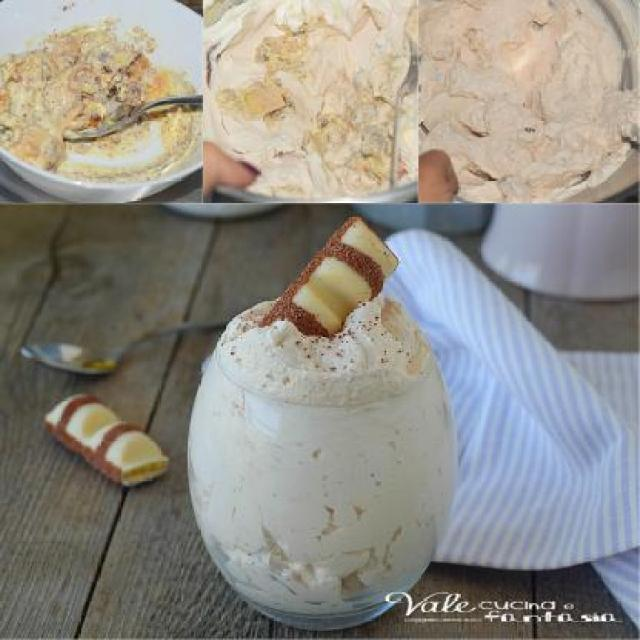Chocolate bar packaged: (254, 214, 398, 351), (40, 392, 168, 494)
